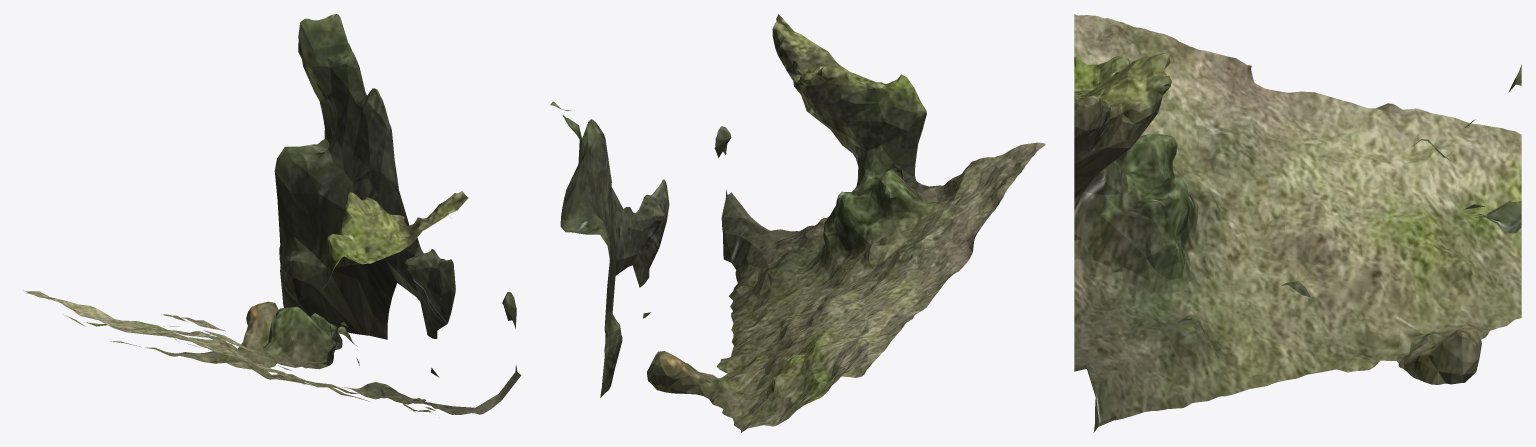
3 views of the same model, side by side, from view 1: azimuth 30°, elevation 25°; view 2: azimuth 150°, elevation 25°; view 3: azimuth 270°, elevation 25° (orthographic). The views are drawn at different scales.
Size of the model in its own units: 5.9 by 5.1 by 5.9.
Materials: 4 (4 with a texture image).
